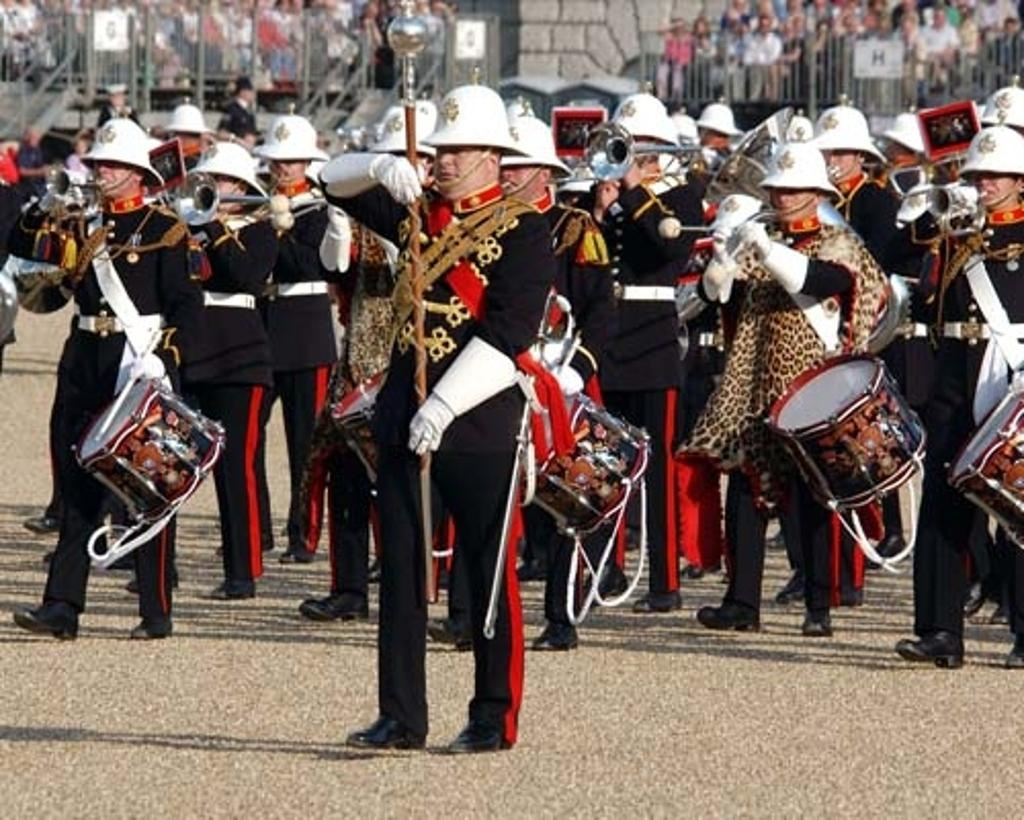human_face: (434, 142, 486, 186), (196, 171, 244, 211), (492, 160, 540, 194), (972, 166, 1014, 204), (772, 184, 816, 220), (95, 156, 133, 192), (819, 140, 857, 176), (272, 156, 304, 184), (110, 92, 124, 106), (241, 88, 253, 100)
